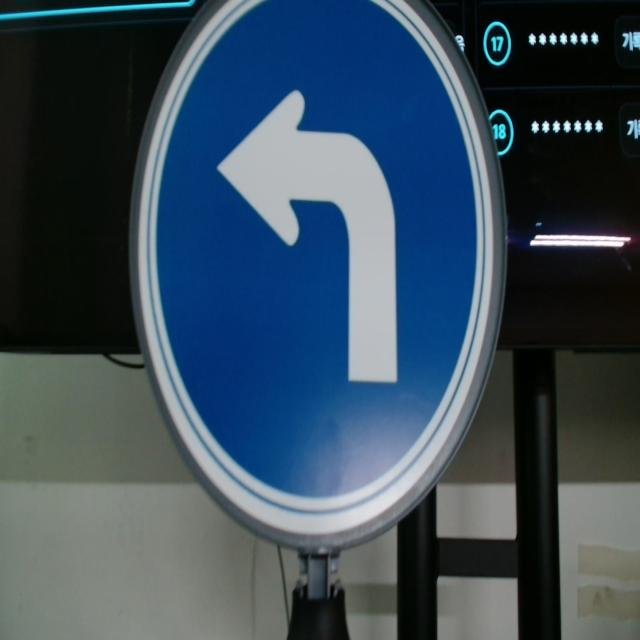left_direction: (118, 0, 520, 563)
